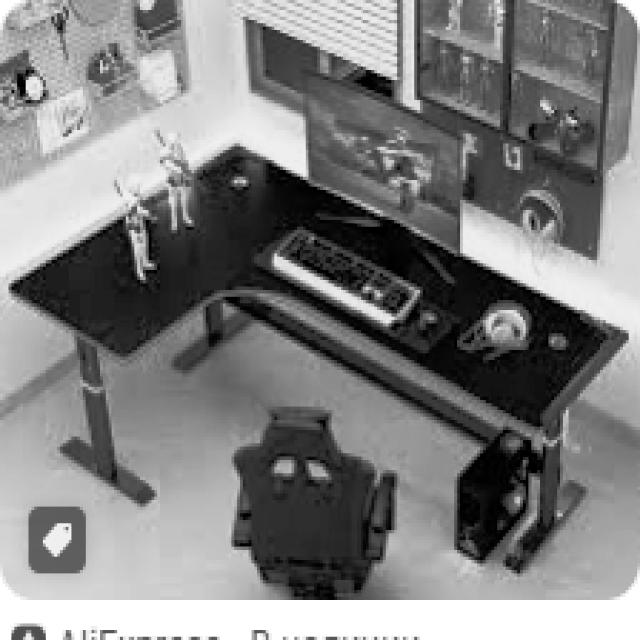table: (6, 140, 628, 573)
